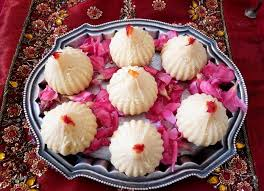modak: (110, 122, 174, 179), (173, 91, 233, 148), (39, 100, 100, 154), (41, 38, 97, 96), (99, 68, 164, 110), (161, 30, 213, 82), (107, 22, 161, 68)
